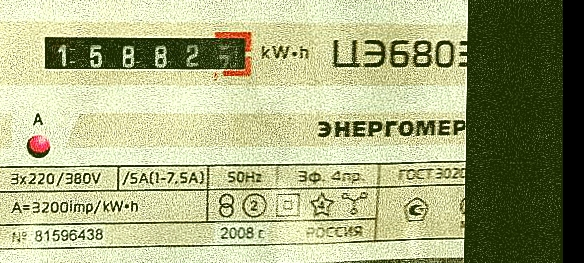1: (56, 39, 70, 68)
2: (183, 41, 201, 68)
5: (87, 41, 105, 71)
7: (216, 51, 229, 68)
8: (119, 42, 136, 70), (152, 41, 169, 69)
screen: (32, 19, 259, 84)
